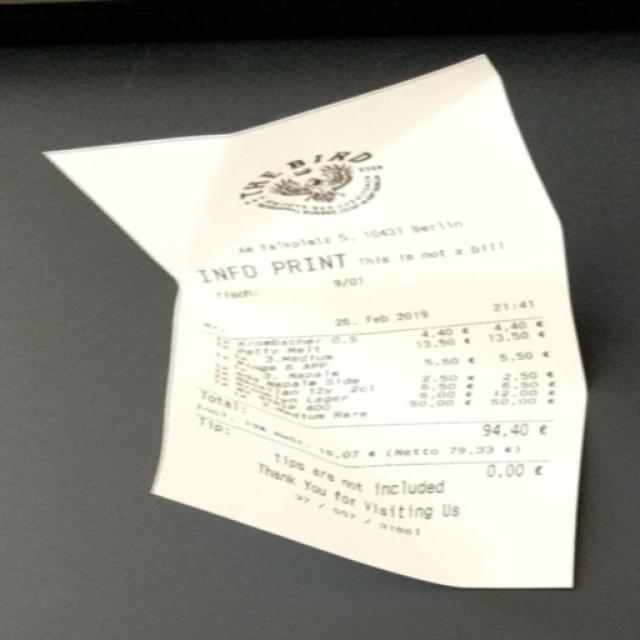document: (47, 56, 586, 588)
